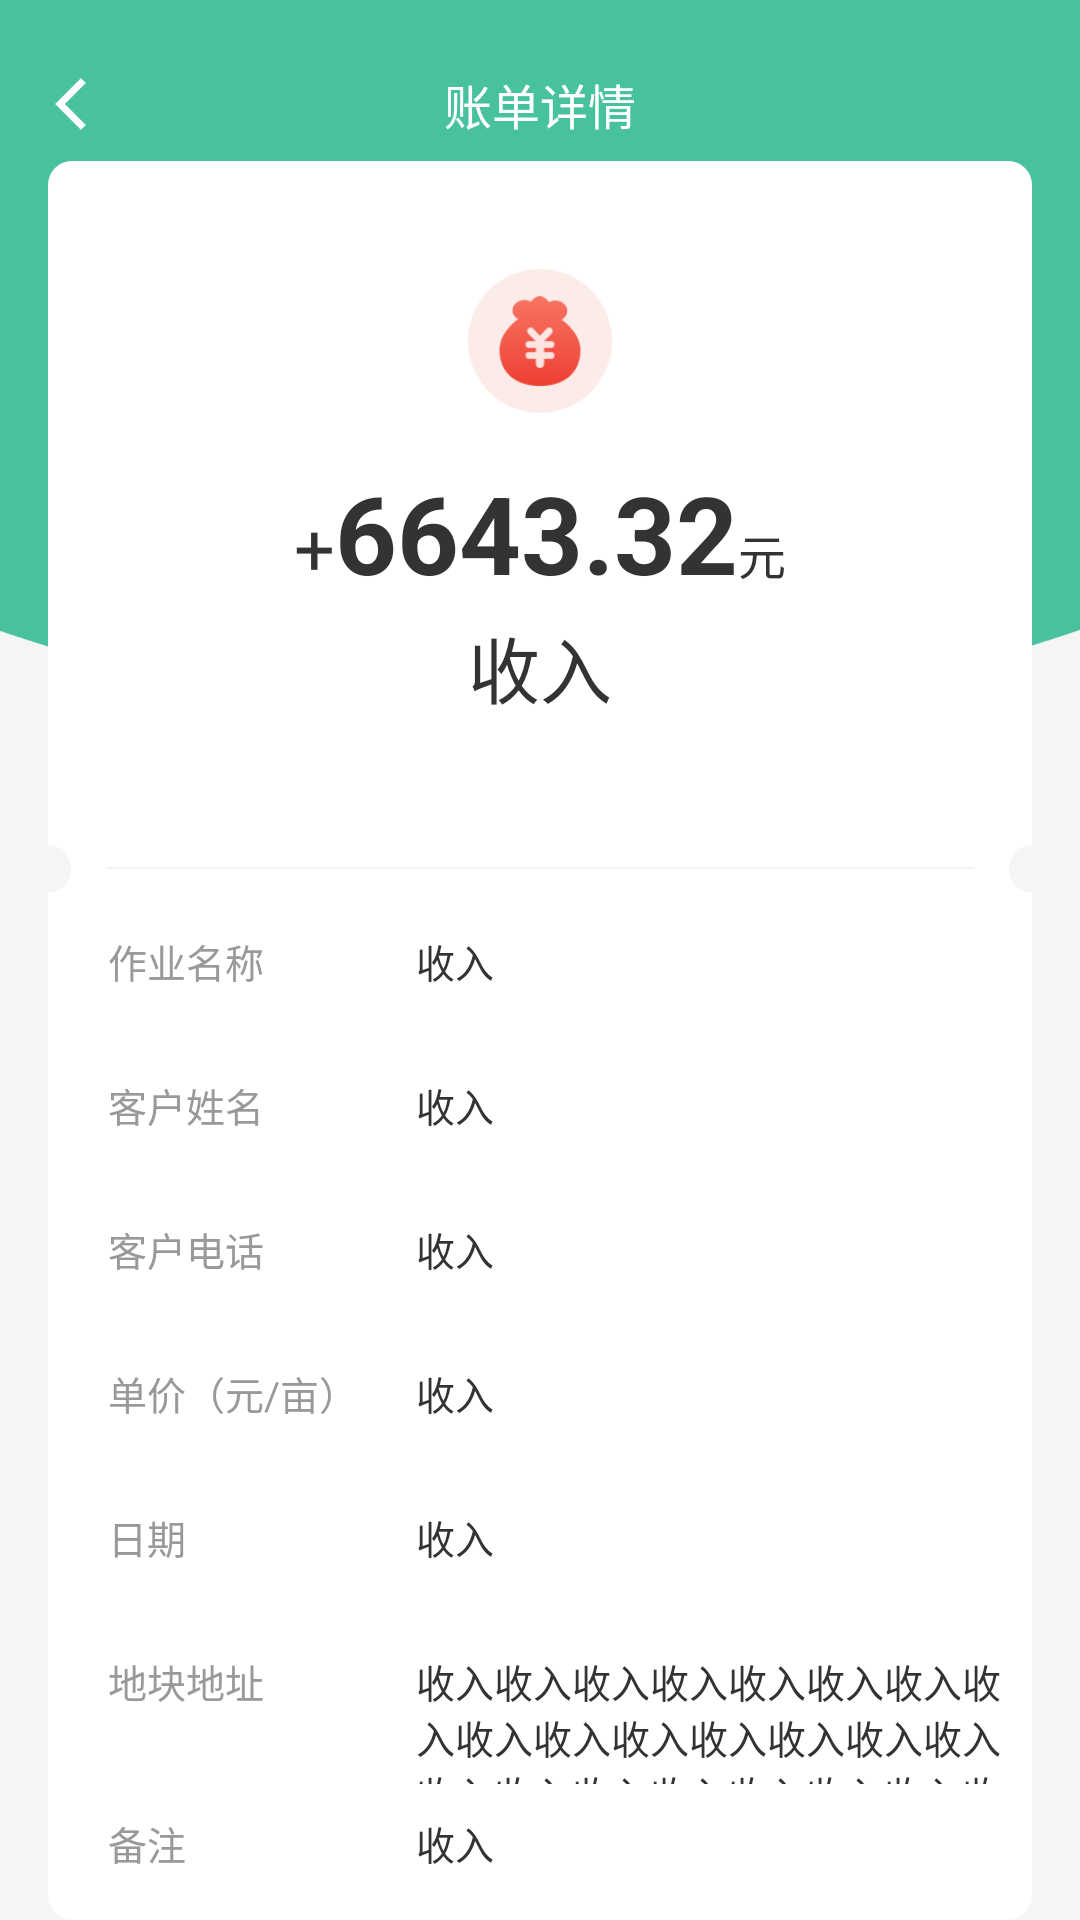

Point at icon controls on the screen. Image size 1080*1920, points as [x,y].
dill income: [540,341]
retur wn: [70,104]
